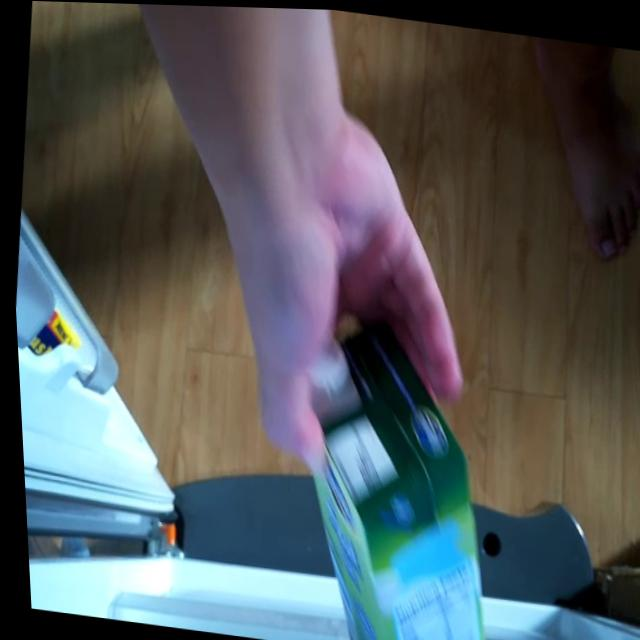milk: (275, 317, 512, 640)
